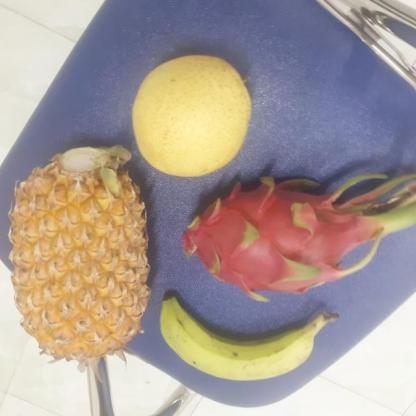banana: (151, 293, 321, 379)
pear: (125, 56, 251, 180)
pineapple: (6, 142, 152, 362)
pitaya: (168, 173, 362, 300)
